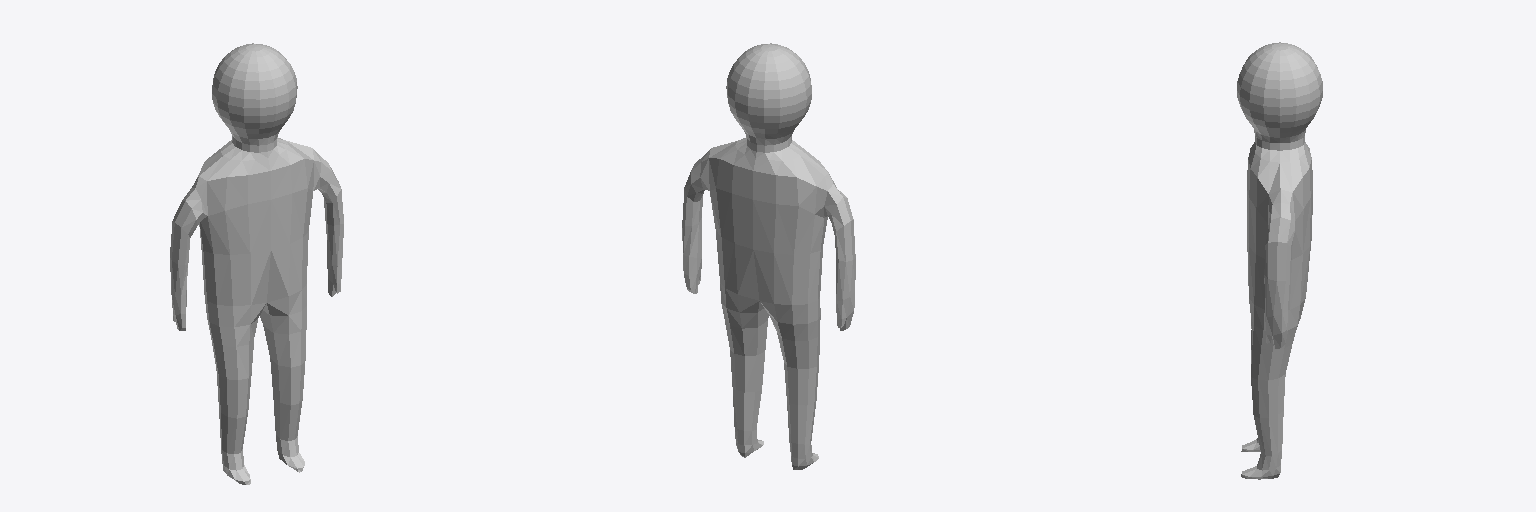
File: Czlowiek112.obj
3 views of the same model, side by side, from view 1: azimuth 30°, elevation 25°; view 2: azimuth 150°, elevation 25°; view 3: azimuth 270°, elevation 25° (orthographic).
Visible parts, largest first — view 1: Sphere.001; view 2: Sphere.001; view 3: Sphere.001.
Part boxes in pixels (left/top/right/bottom): Sphere.001: left=170, top=43, right=343, bottom=484; Sphere.001: left=682, top=43, right=855, bottom=469; Sphere.001: left=1237, top=42, right=1322, bottom=479.
Size of the model in its own units: 1.76 by 4.17 by 0.7836.